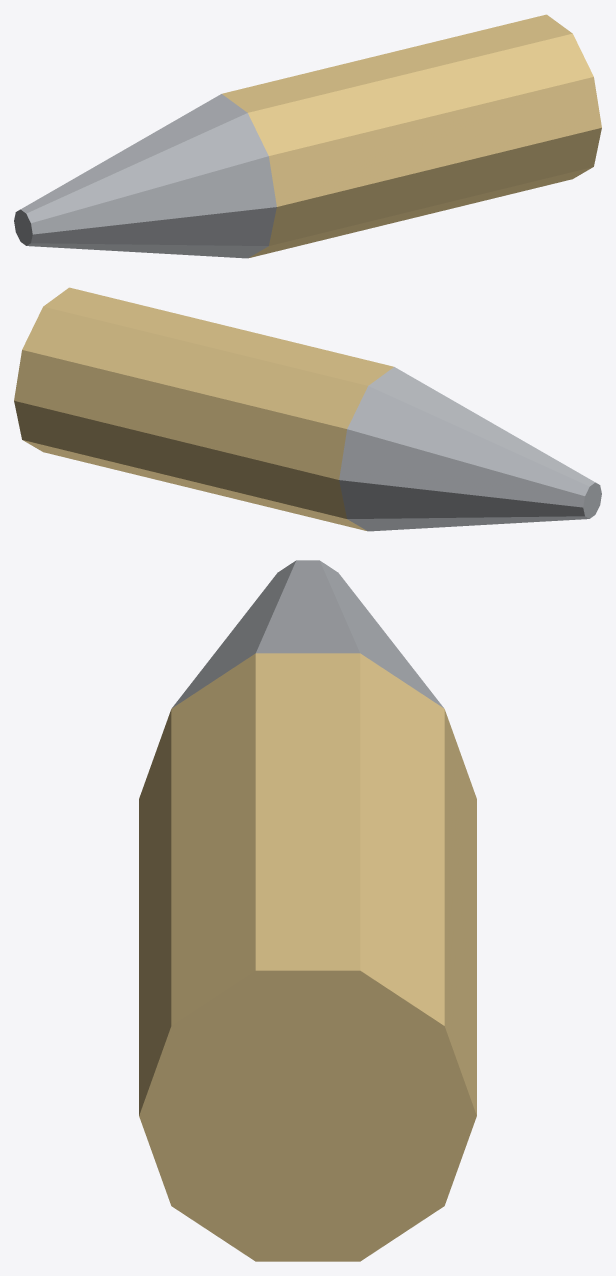
File: B_338Lapua.fbx
3 renders of one model, top to bottom at view 1: azimuth 30°, elevation 25°; view 2: azimuth 150°, elevation 25°; view 3: azimuth 270°, elevation 25°, orthographic. The views are drawn at different scales.
Visible parts, largest first — view 1: B_338Lapua_Body, B_338Lapua_Tip; view 2: B_338Lapua_Body, B_338Lapua_Tip; view 3: B_338Lapua_Body, B_338Lapua_Tip.
Boxes of the visible parts, left/top/right/bottom form: B_338Lapua_Body: left=222, top=14, right=601, bottom=258; B_338Lapua_Tip: left=14, top=94, right=276, bottom=258; B_338Lapua_Body: left=14, top=287, right=393, bottom=531; B_338Lapua_Tip: left=339, top=367, right=601, bottom=531; B_338Lapua_Body: left=139, top=653, right=476, bottom=1261; B_338Lapua_Tip: left=172, top=560, right=443, bottom=707.
Bounding box in the file's own units: 0.066 × 0.0171 × 0.018.
